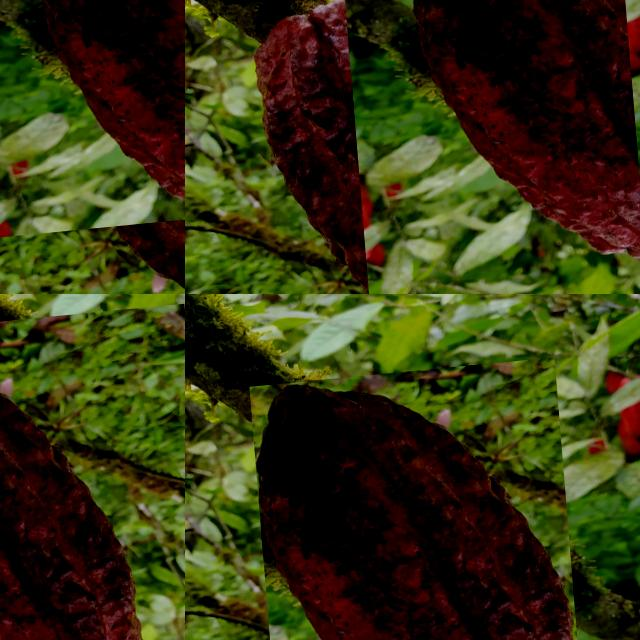Fitoftora: (247, 366, 578, 640), (338, 0, 640, 294), (0, 0, 185, 248)
Monilia: (0, 311, 185, 640)
